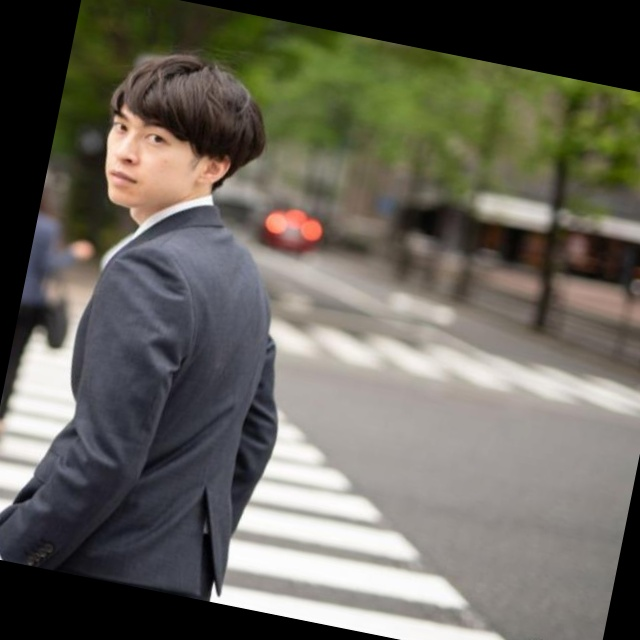Sin_Casco_Mascarrilla: (91, 39, 281, 233)
Sin_Chaleco: (11, 200, 288, 603)
